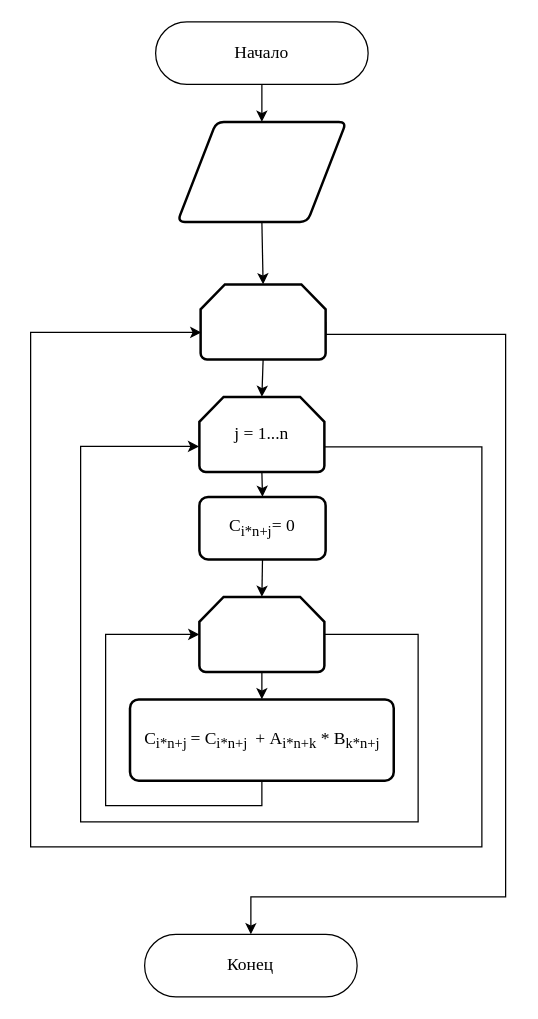
This 538x1019 diagram has some shape labels left out. The shapes that lost their labels are listed below. From the top down, each one's centre as x and y in pixels, then its label:
the point at 261,171: n, A, B, C
the point at 262,321: i = 1...n
the point at 261,633: k = 1...n
